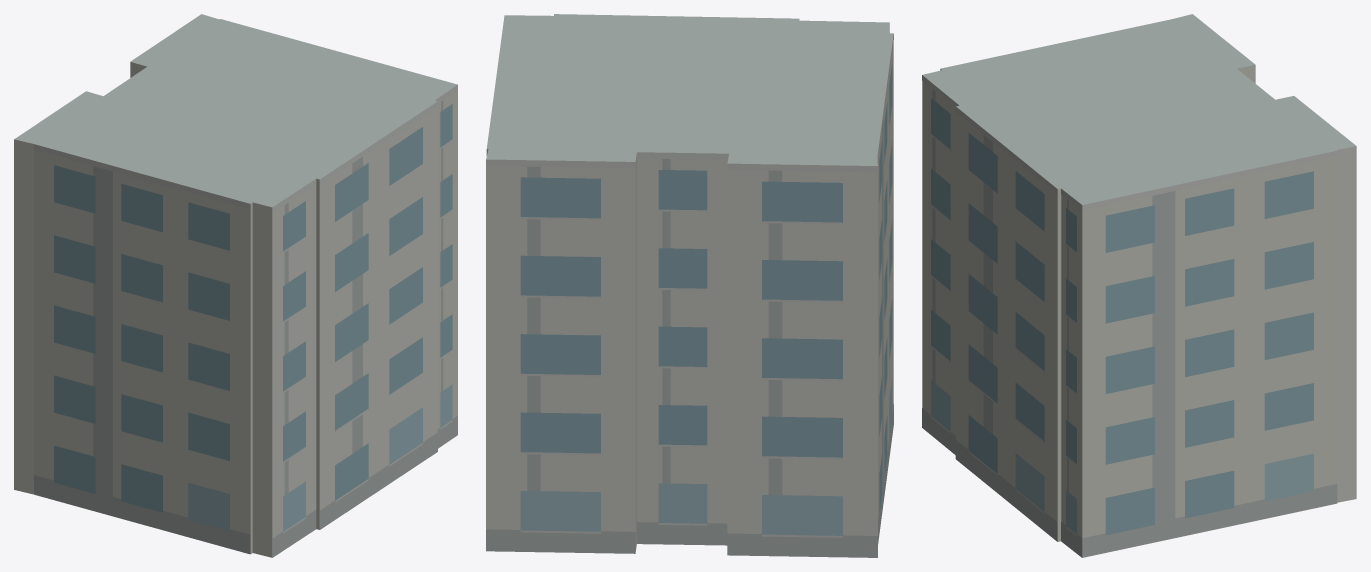
File: survey-upis-32837182.glb
3 renders of one model, left to right at view 1: azimuth 30°, elevation 25°; view 2: azimuth 150°, elevation 25°; view 3: azimuth 270°, elevation 25°, orthographic. The views are drawn at different scales.
Parts seen in each view (by area): view 1: survey-upis-32837182.tmp; view 2: survey-upis-32837182.tmp; view 3: survey-upis-32837182.tmp.
Boxes of the visible parts, box(x1,y1,x2,y2) form: survey-upis-32837182.tmp: box(14, 14, 457, 557); survey-upis-32837182.tmp: box(486, 14, 893, 557); survey-upis-32837182.tmp: box(922, 14, 1356, 557).
Bounding box in the file's own units: 17.54 × 15.1 × 16.86.
